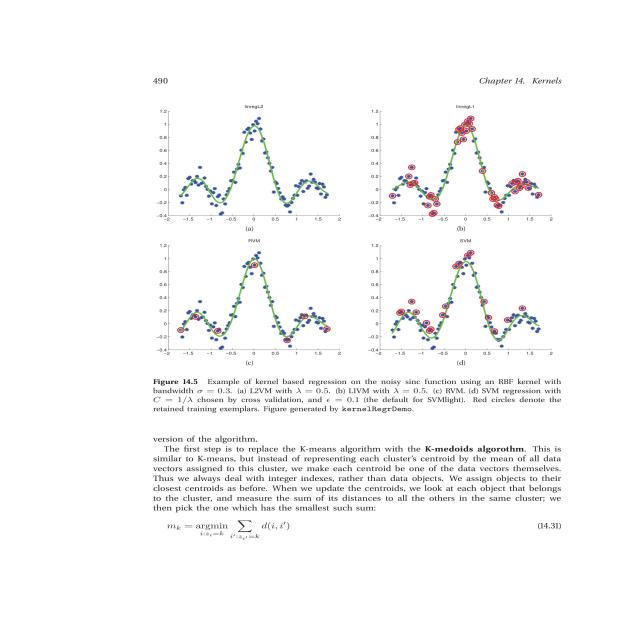diagram: (114, 100, 582, 422)
